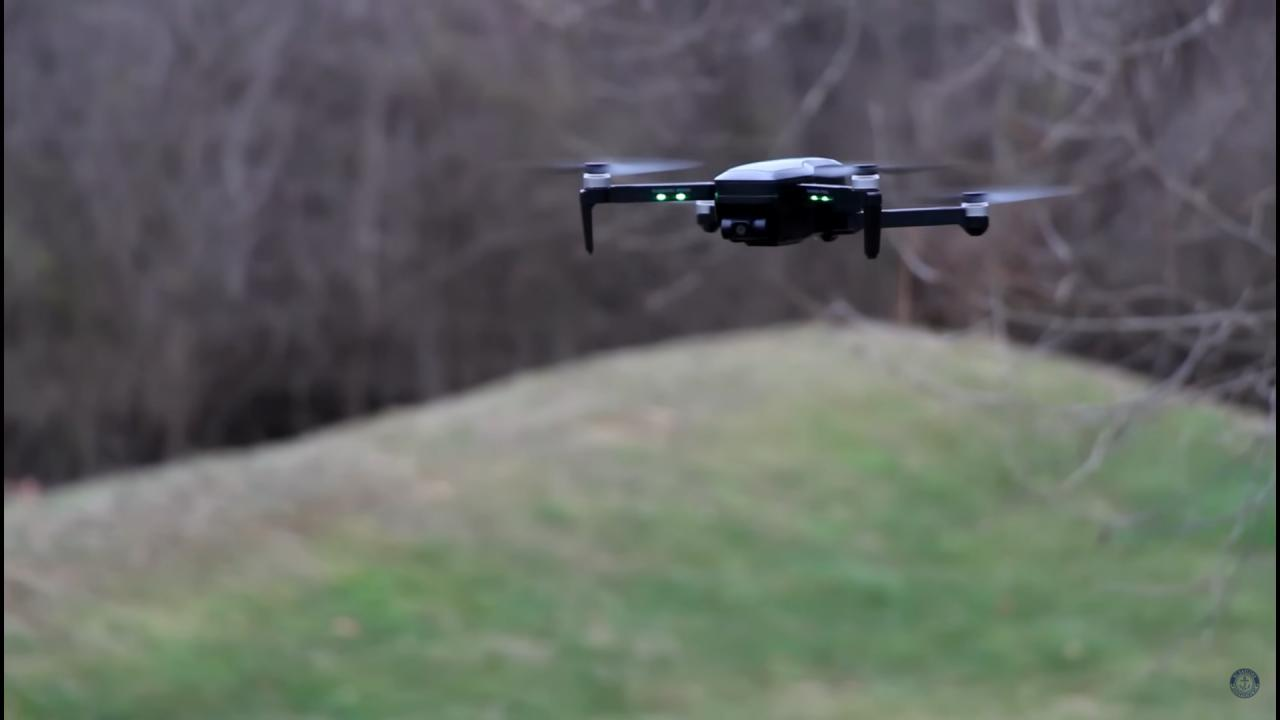Drone: (458, 121, 1110, 283)
